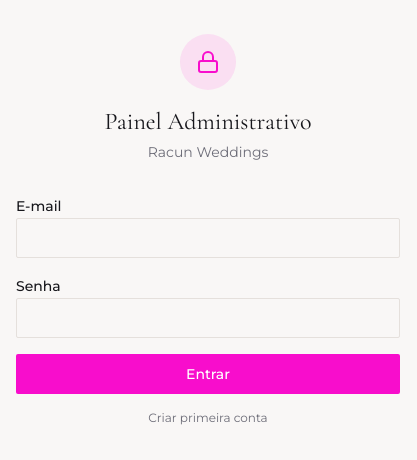
Test: Lockout do login do painel › bloqueia o formulário quando o throttle informa lockout ativo
In the field labelled "E-mail": (208, 238) x1=16 y1=218 x2=400 y2=258, type "admin@racun.com"
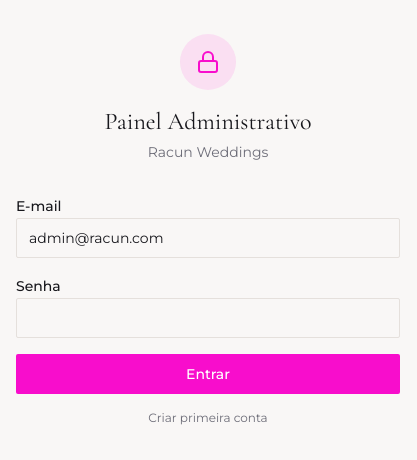
In the password field labelled "Senha": (208, 318) x1=16 y1=298 x2=400 y2=338, type "senha-errada"
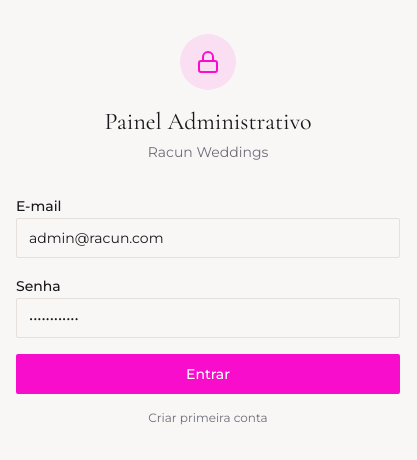
Click the button "Entrar": click(208, 374) x1=16 y1=354 x2=400 y2=394
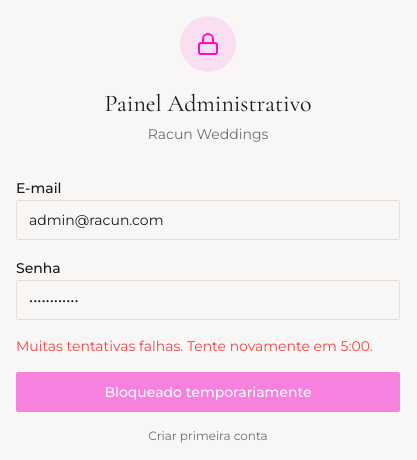
Expected: the text "Muitas tentativas falhas. Tente novamente em 5:00." is shown, x1=16 y1=336 x2=400 y2=356
Expected: the button "Bloqueado temporariamente" is disabled, x1=16 y1=372 x2=400 y2=412
